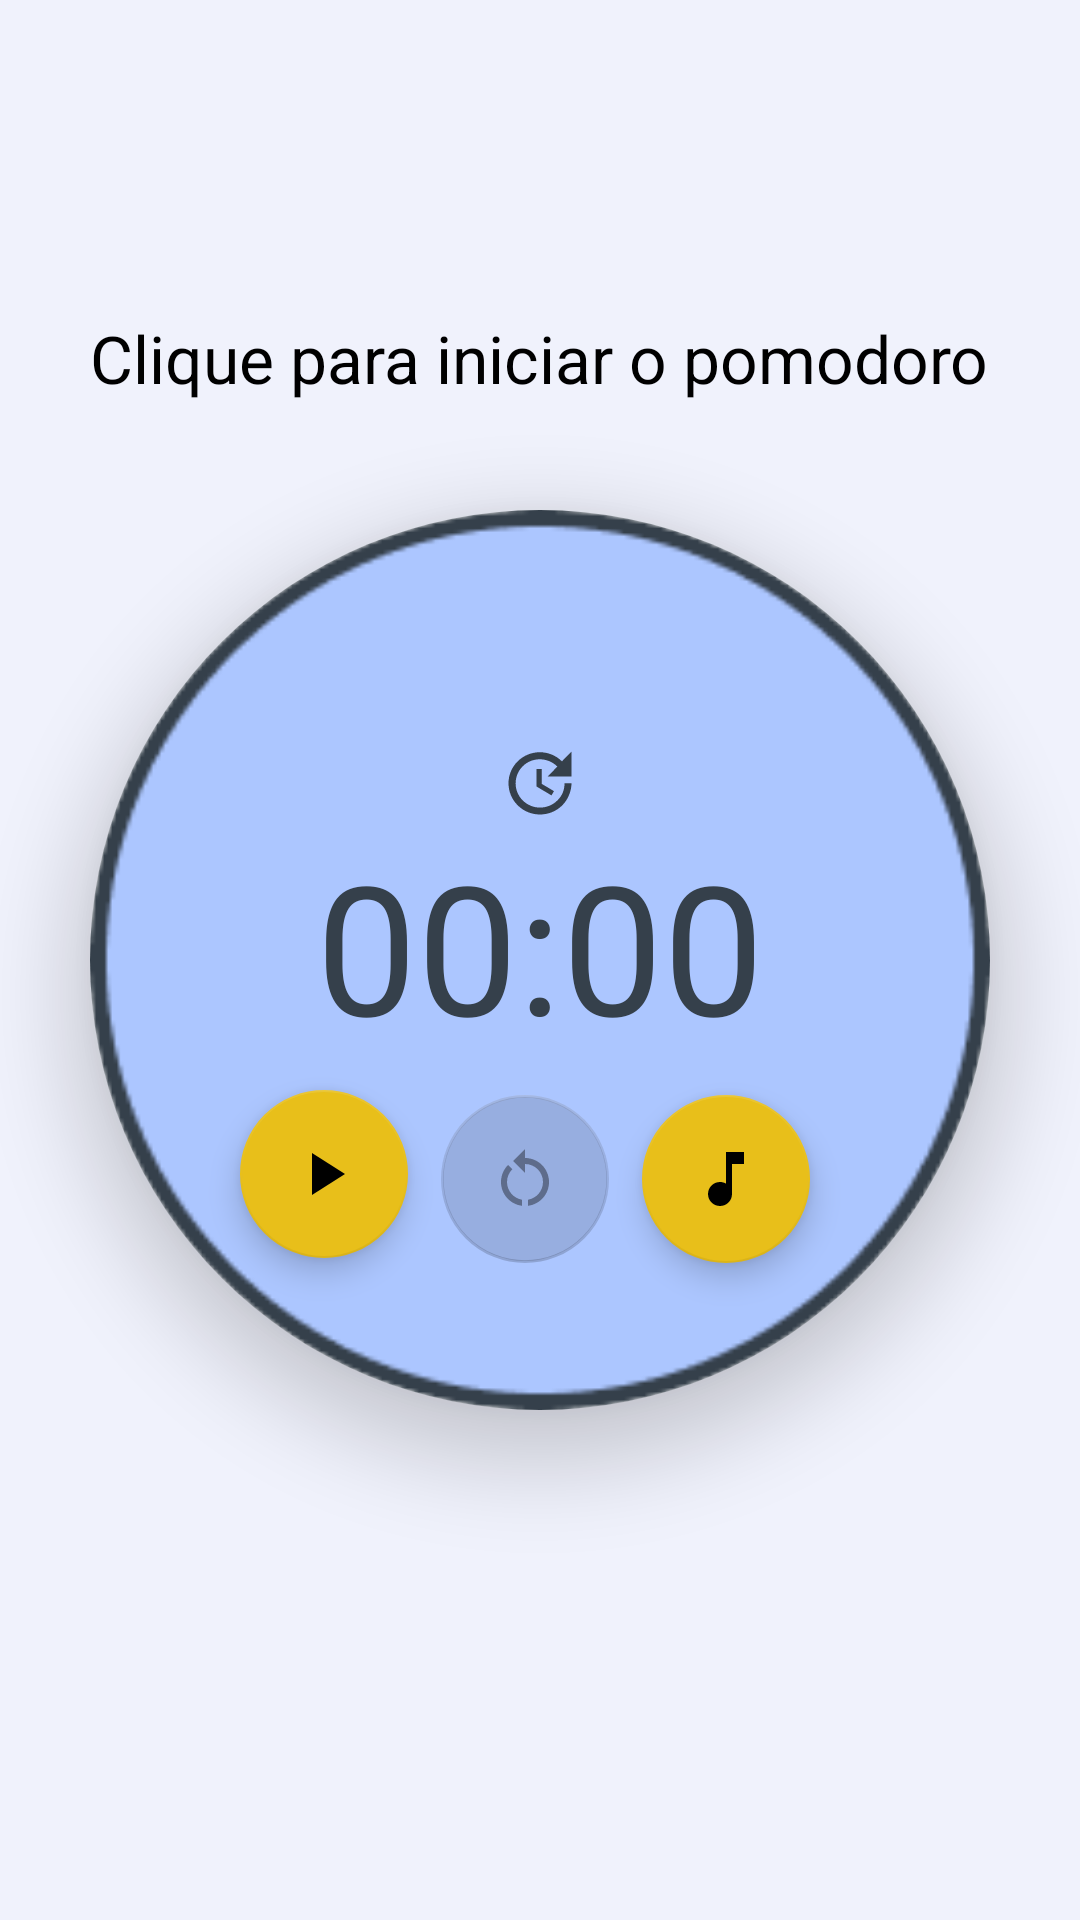

Screen size 1080*1920. Icon name, then its box in pixels as bbox=(x1, y1, x2, y2):
music: bbox=(642, 1095, 810, 1263)
play: bbox=(240, 1090, 408, 1258)
restart: bbox=(441, 1095, 609, 1263)
timer update: bbox=(508, 752, 572, 815)
